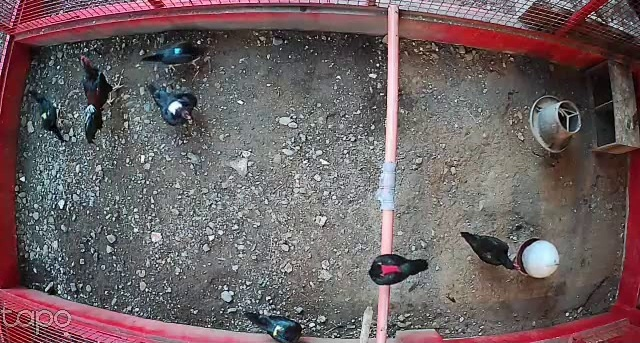Chicken: (458, 226, 524, 275), (142, 80, 199, 130), (365, 247, 428, 290), (238, 303, 304, 343), (140, 37, 208, 74), (28, 89, 69, 145)
Rooster: (77, 51, 129, 150)
Saddle_Color_Blue: (174, 47, 181, 54)
Saddle_Color_Red: (379, 263, 399, 275)
Saddle_Color_White: (168, 100, 182, 114)
Saddle_Color_Yellow: (41, 111, 49, 119)
